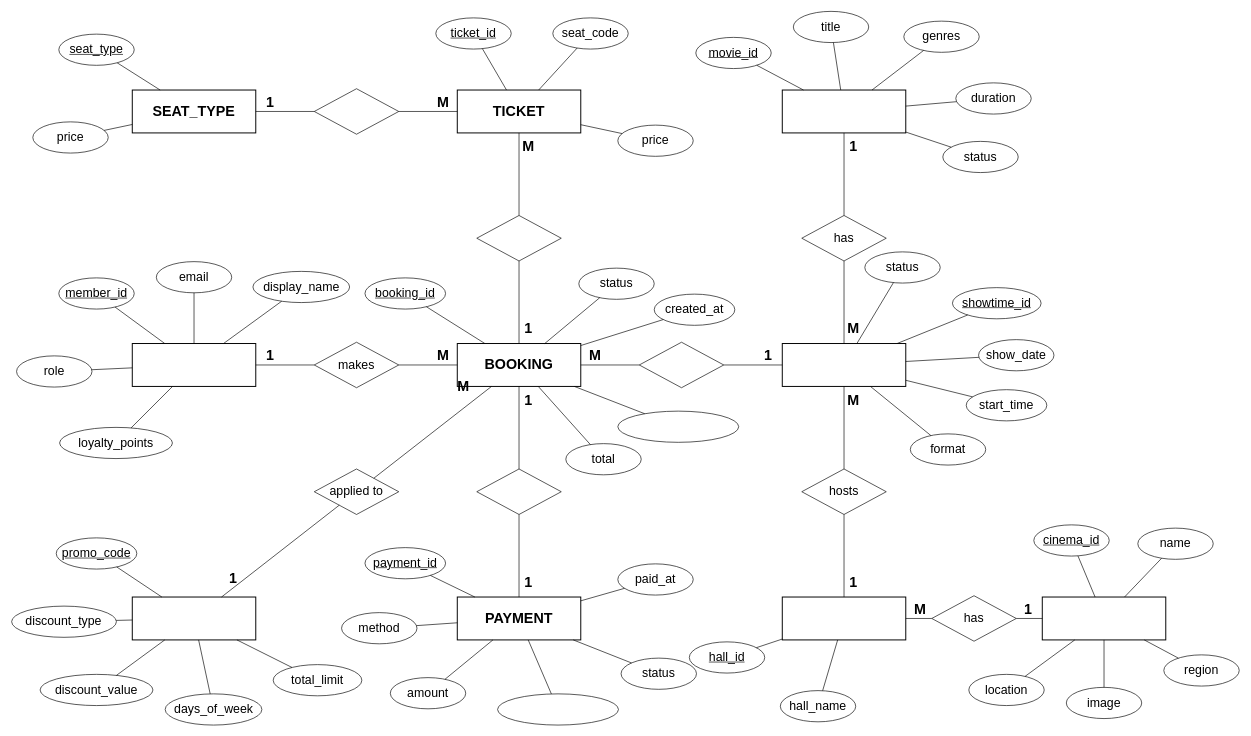
This 1251x736 diagram has some shape labels left out. The box of each missing label's shape, as (x1, y1, x2, y2) in pixels:
CINEMA: (1041, 596, 1166, 640)
contains: (476, 215, 561, 261)
for: (639, 342, 724, 388)
HALL: (781, 596, 906, 640)
hold_expires_at: (617, 410, 739, 442)
MEMBER: (131, 343, 256, 387)
MOVIE: (781, 89, 906, 133)
paid by: (476, 468, 561, 514)
prices: (314, 88, 399, 134)
PROMOTION: (131, 596, 256, 640)
SHOWTIME: (781, 343, 906, 387)
transaction_ref: (497, 693, 618, 725)
